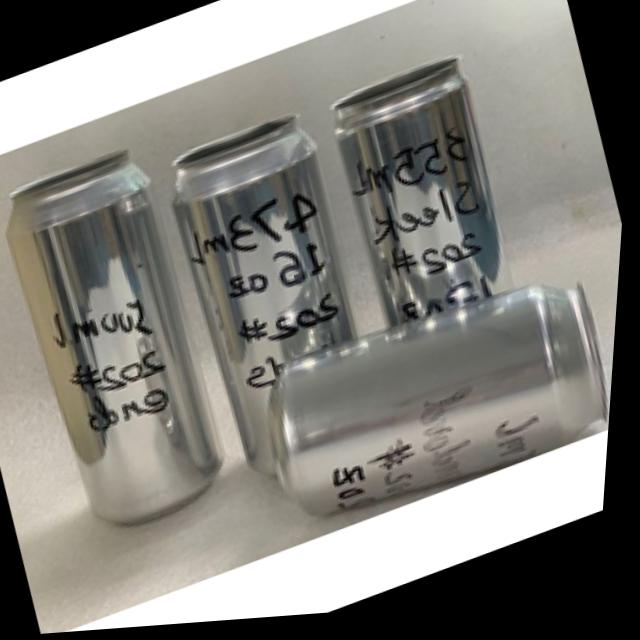aluminum_soda_cans: (266, 264, 624, 547), (0, 143, 243, 549), (320, 54, 531, 333), (159, 110, 363, 389)
